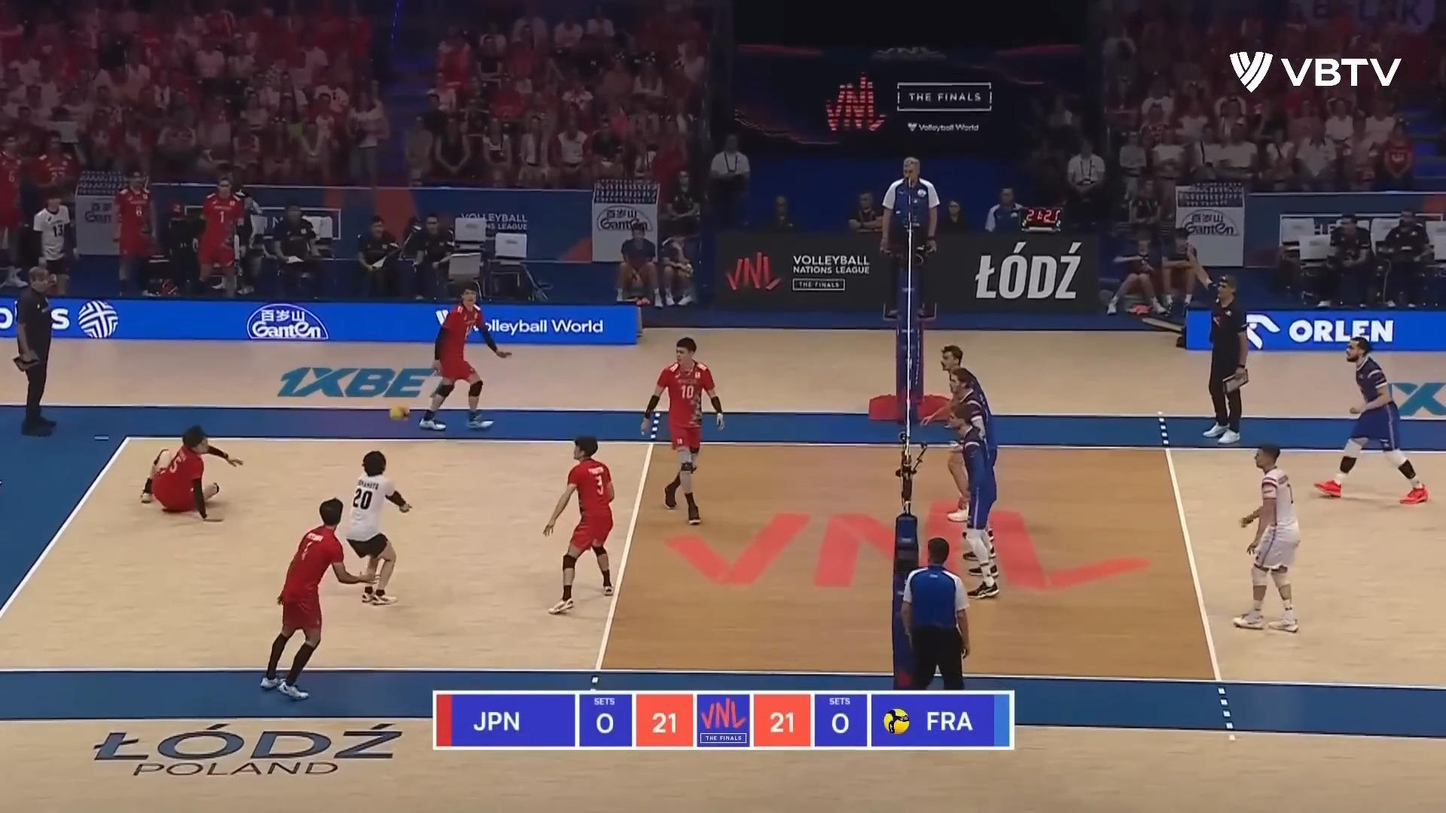ball: (388, 400, 411, 423)
